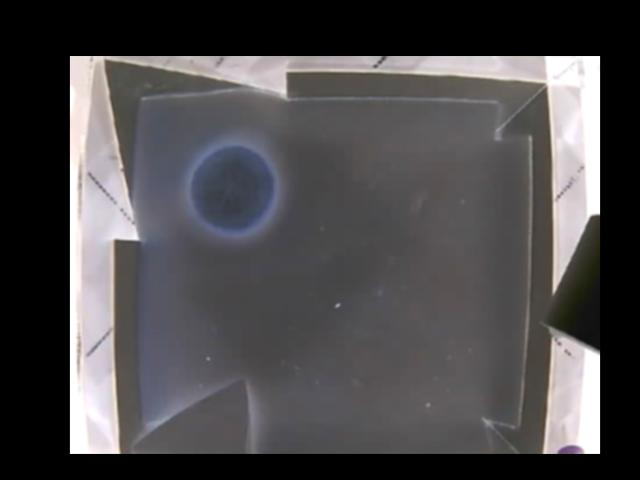China: (126, 376, 252, 453)
Mooli: (185, 142, 277, 235)
